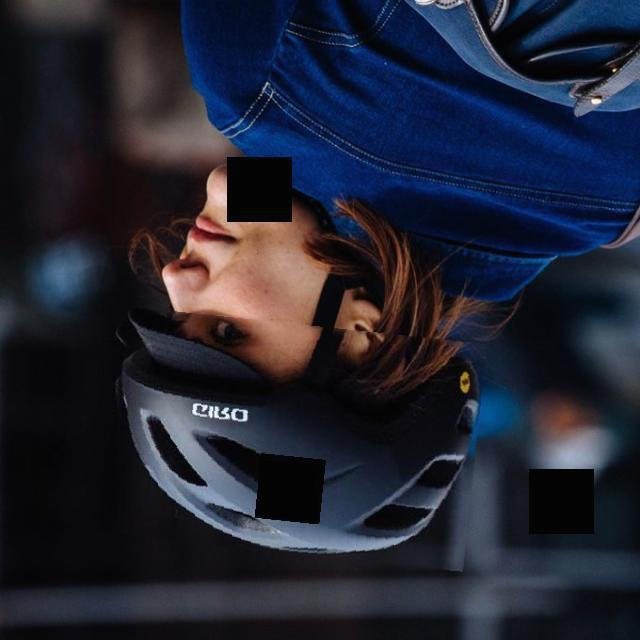helmet: (108, 316, 481, 563)
